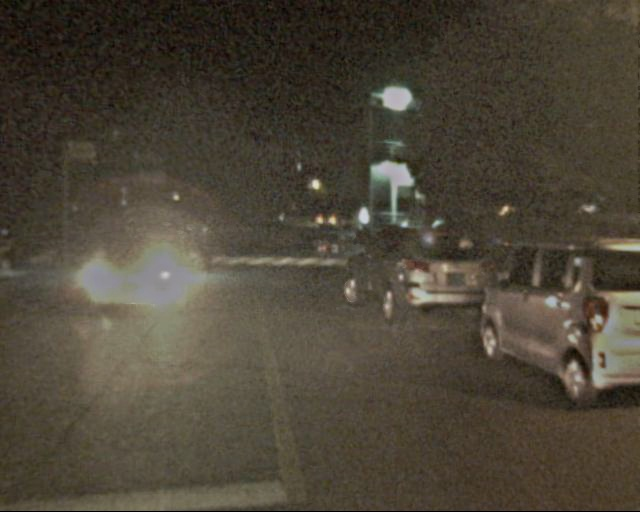person: (349, 217, 376, 274)
